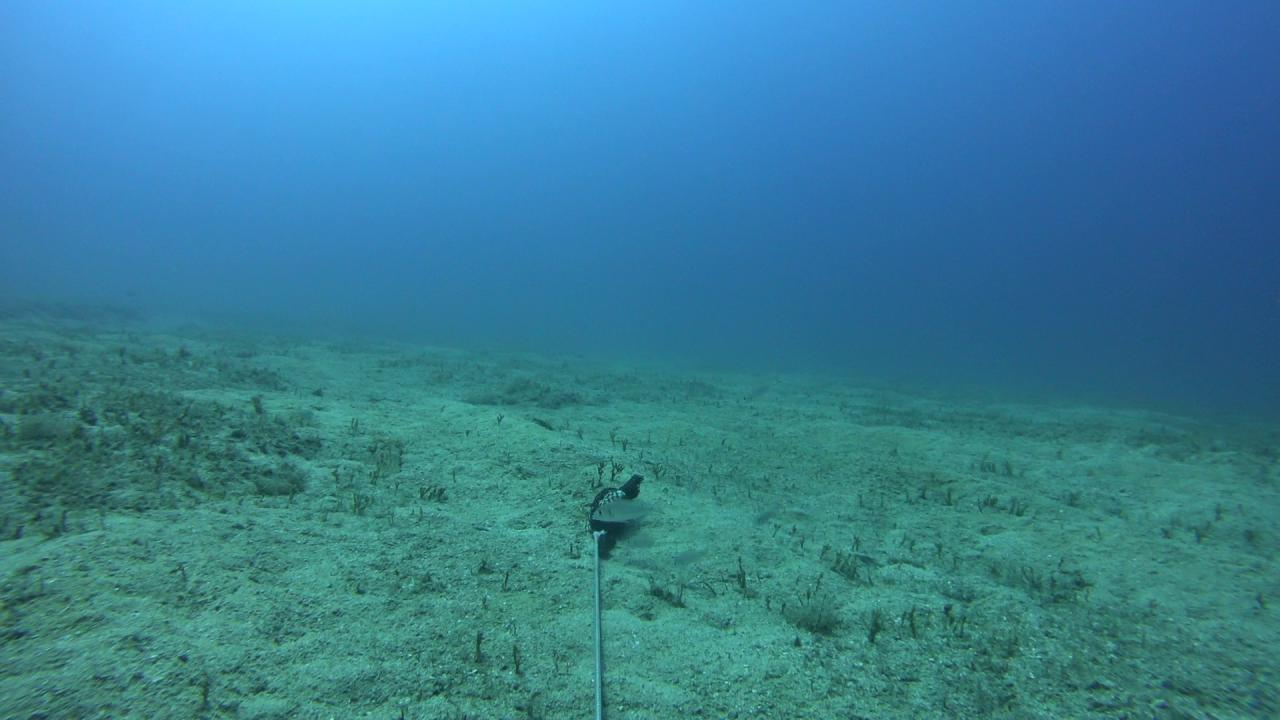pagellus: (588, 497, 665, 523), (670, 541, 711, 569), (751, 509, 778, 529)
